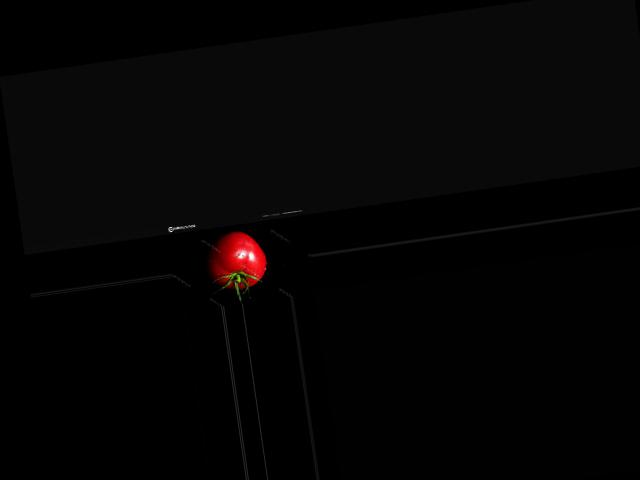tomato: (202, 227, 270, 293)
